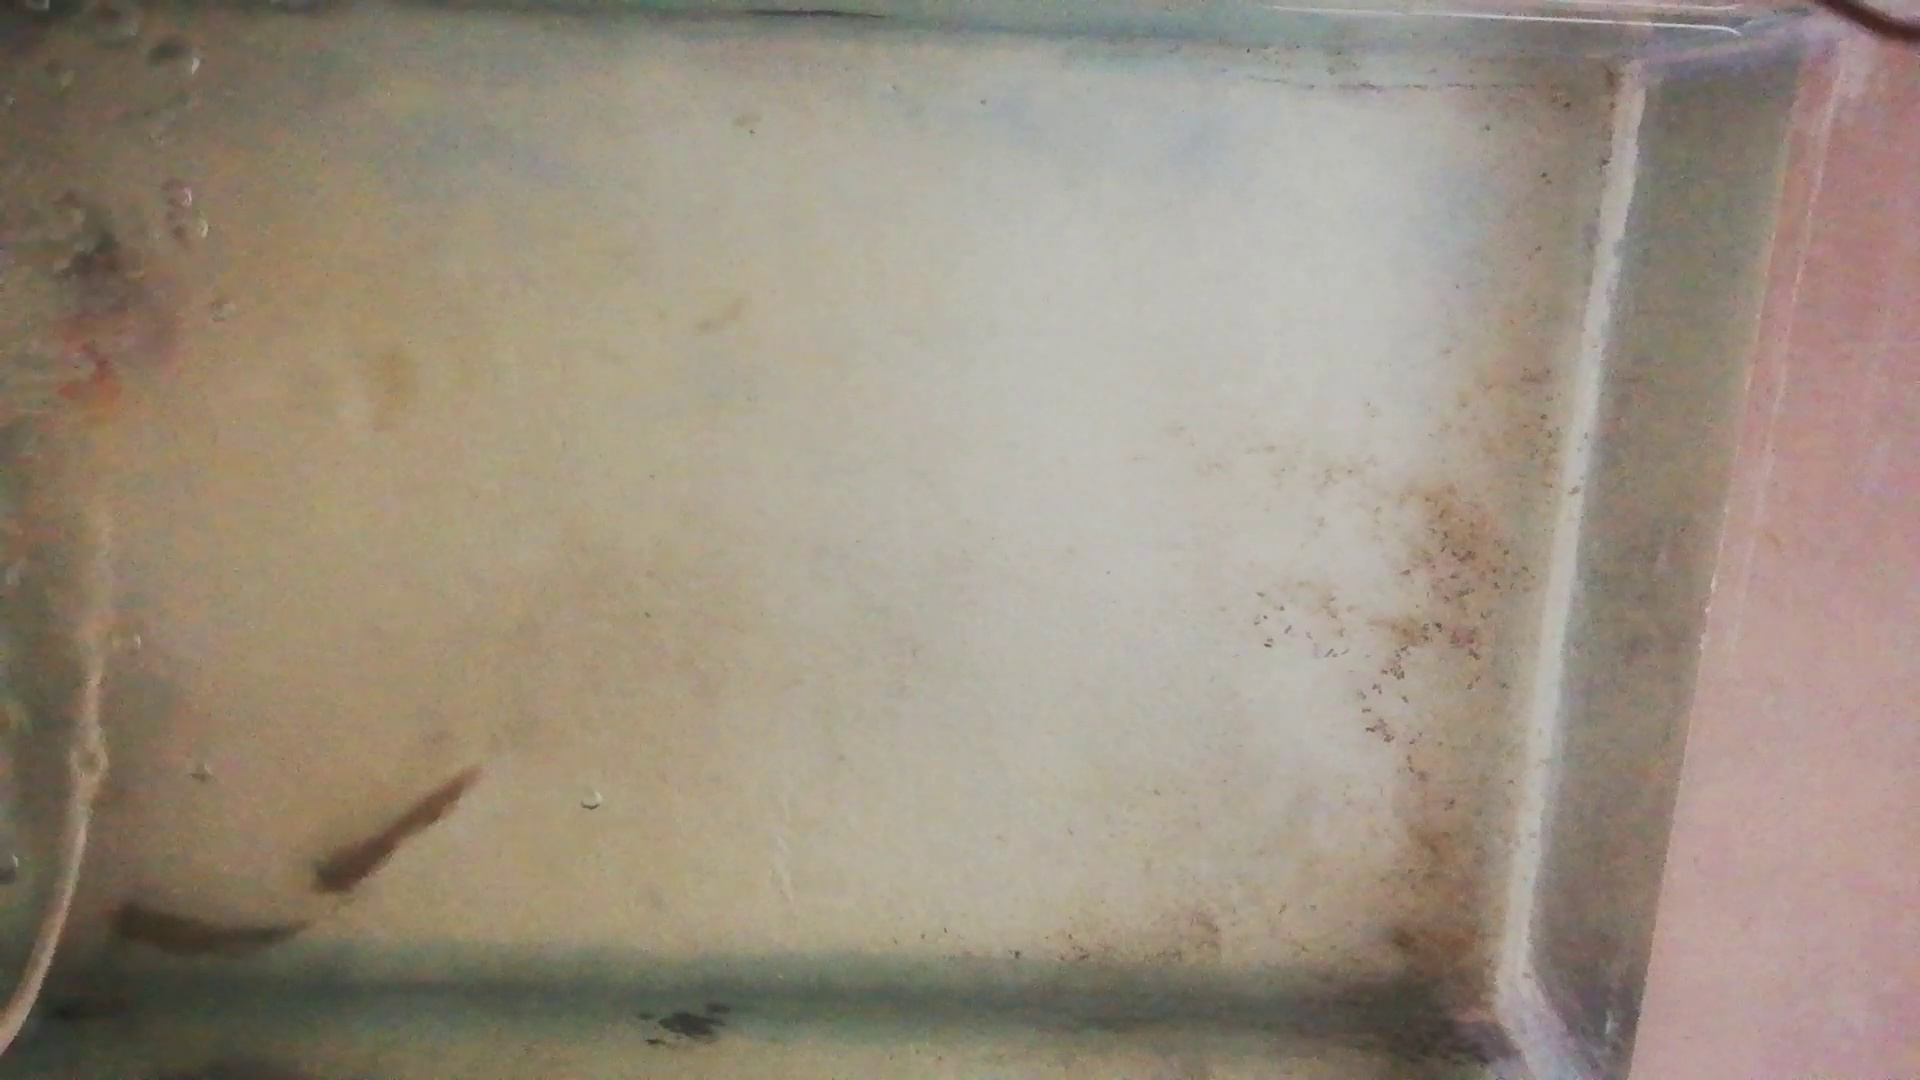fish: (311, 767, 483, 893), (109, 901, 305, 967)
